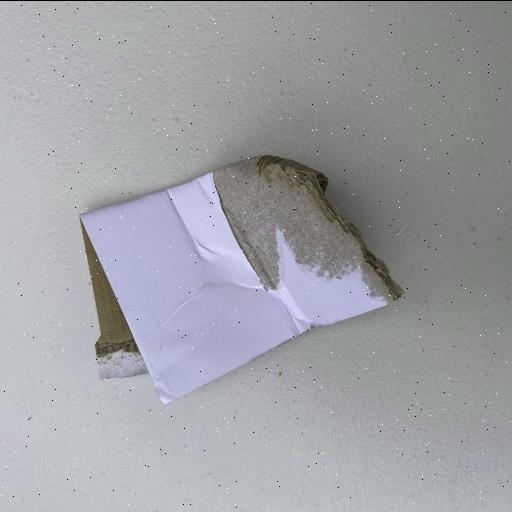Cardboard: (78, 152, 404, 404)
